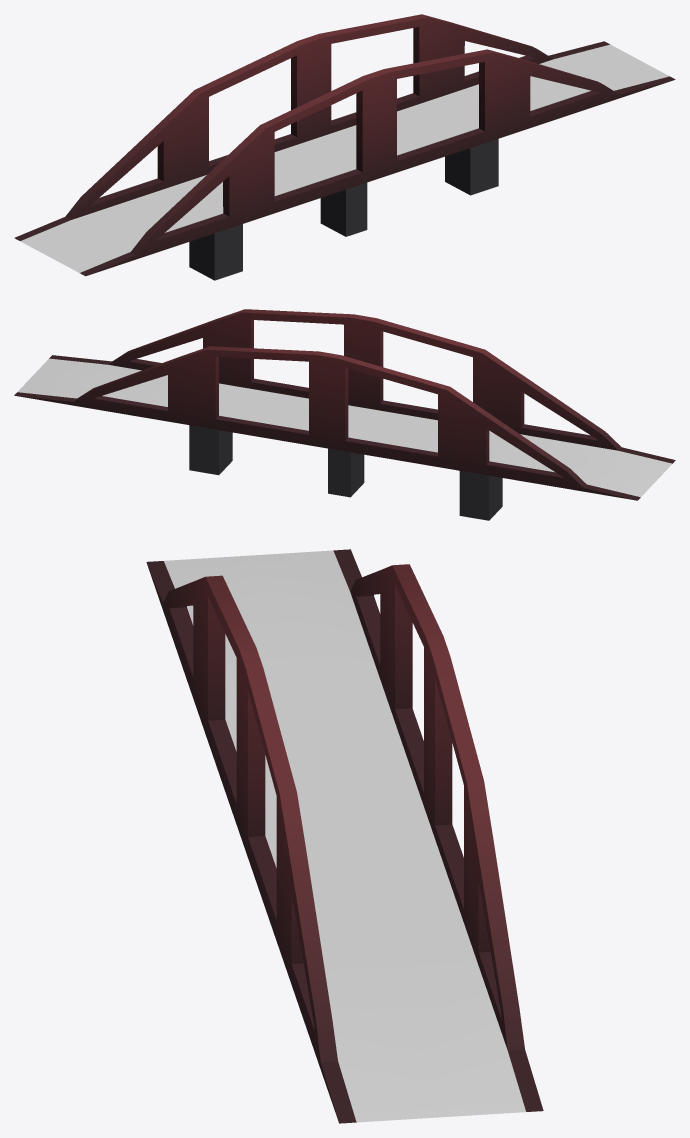
The model's file is BRIDGE2.fbx.
3 renders of one model, top to bottom at view 1: azimuth 30°, elevation 25°; view 2: azimuth 150°, elevation 25°; view 3: azimuth 270°, elevation 25°, orthographic. The views are drawn at different scales.
Parts seen in each view (by area): view 1: Bridge; view 2: Bridge; view 3: Bridge.
Part boxes in pixels (<box>): Bridge: <box>14,14,675,280</box>; Bridge: <box>14,309,675,520</box>; Bridge: <box>146,549,543,1123</box>.
Bounding box in the file's own units: 1851 × 457 × 541.
